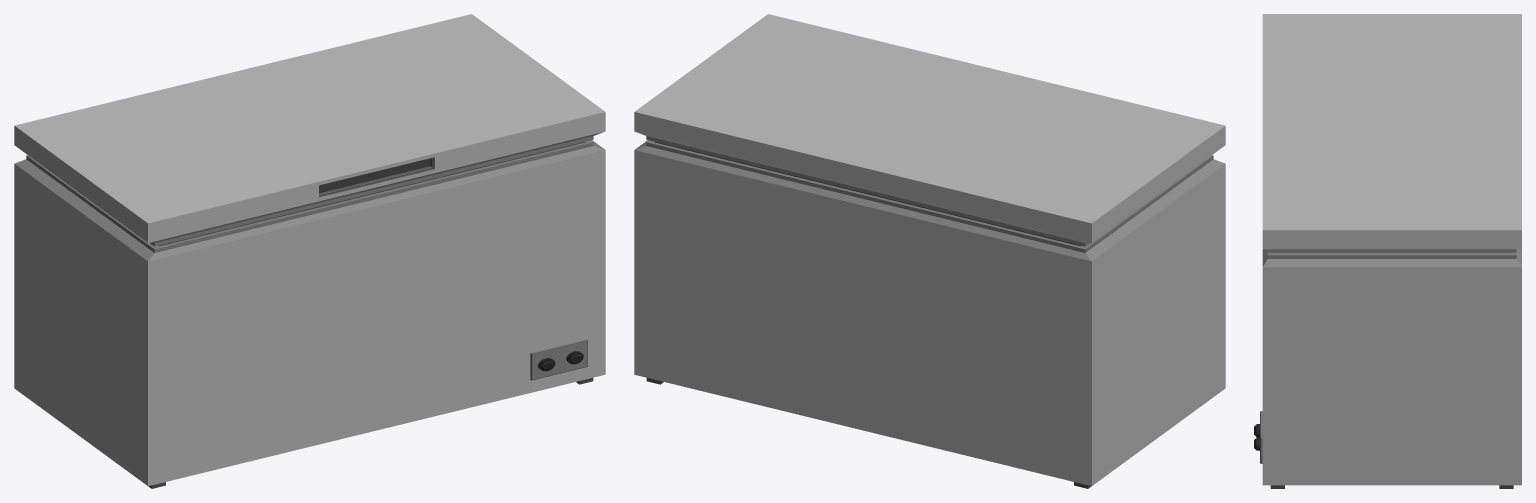
File: Deep Freeze.fbx
3 renders of one model, left to right at view 1: azimuth 30°, elevation 25°; view 2: azimuth 150°, elevation 25°; view 3: azimuth 270°, elevation 25°, orthographic. The views are drawn at different scales.
Parts seen in each view (by area): view 1: Deep Freeze; view 2: Deep Freeze; view 3: Deep Freeze.
Boxes of the visible parts, box(x1,y1,x2,y2) form: Deep Freeze: box(14, 14, 605, 488); Deep Freeze: box(634, 14, 1225, 488); Deep Freeze: box(1254, 14, 1521, 488).
Size of the model in its own units: 150 by 84.55 by 78.22.
Materials: 2 (2 with a texture image).
